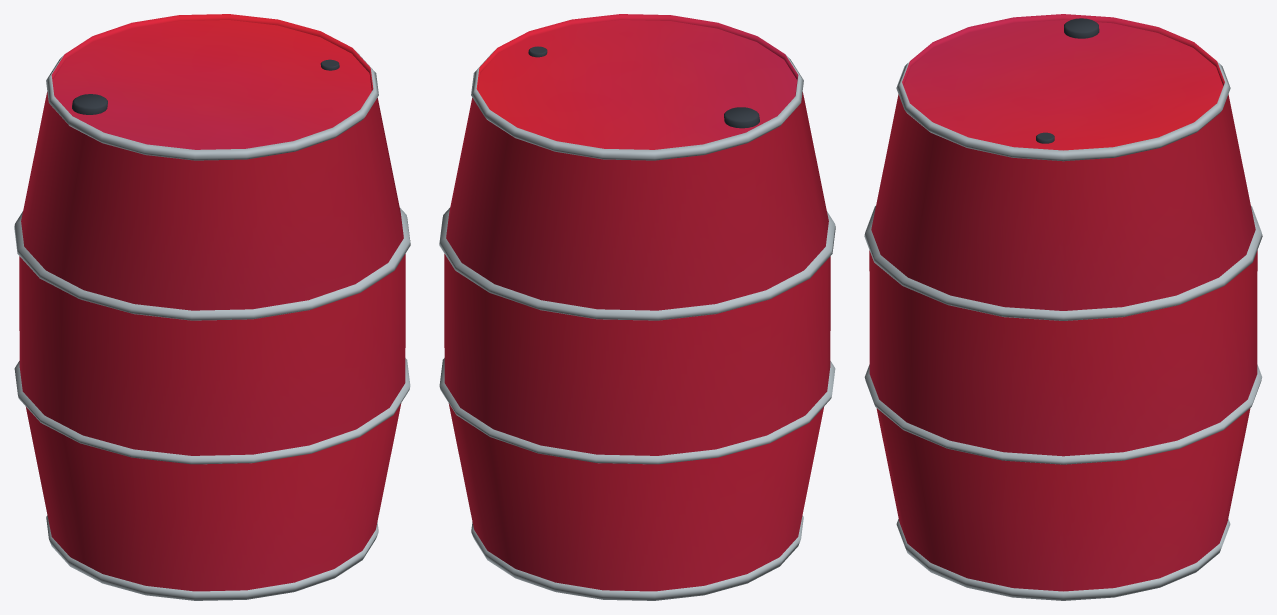
Rendered from Obs_Barrel.fbx.
3 views of the same model, side by side, from view 1: azimuth 30°, elevation 25°; view 2: azimuth 150°, elevation 25°; view 3: azimuth 270°, elevation 25° (orthographic).
Parts seen in each view (by area): view 1: Obs_Barrel; view 2: Obs_Barrel; view 3: Obs_Barrel.
Boxes of the visible parts, <box> form: Obs_Barrel: <box>14,14,410,600</box>; Obs_Barrel: <box>439,14,835,600</box>; Obs_Barrel: <box>864,14,1262,600</box>.
Bounding box in the file's own units: 70.54 × 88.24 × 70.54.
1 material, 1 textured.
